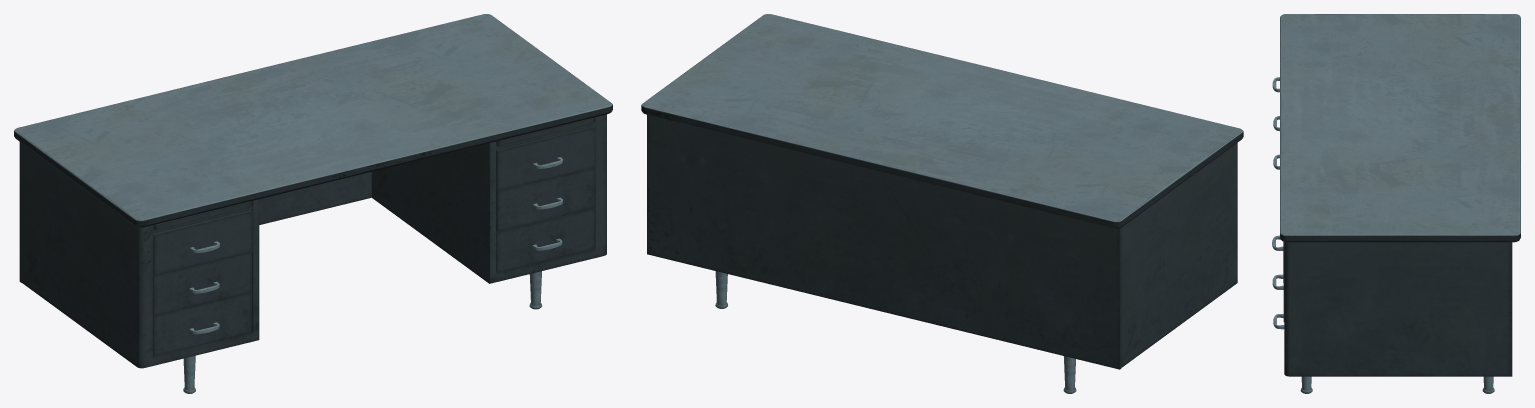
The model's file is alternate.glb.
The picture shows the model from 3 angles, left to right: view 1: azimuth 30°, elevation 25°; view 2: azimuth 150°, elevation 25°; view 3: azimuth 270°, elevation 25°; orthographic projection. The views are drawn at different scales.
Visible parts, largest first — view 1: metal_office_desk, metal_office_desk_drawer_04, metal_office_desk_drawer_01, metal_office_desk_drawer_02, metal_office_desk_drawer_03, metal_office_desk_drawer_06, metal_office_desk_drawer_05, metal_office_desk_tray_01, metal_office_desk_tray_02; view 2: metal_office_desk; view 3: metal_office_desk.
Part boxes in pixels (box(x1,y1,x2,y2)): metal_office_desk: box(14, 14, 612, 393); metal_office_desk_drawer_04: box(153, 210, 252, 275); metal_office_desk_drawer_01: box(496, 126, 595, 191); metal_office_desk_drawer_02: box(496, 167, 595, 231); metal_office_desk_drawer_03: box(496, 208, 594, 272); metal_office_desk_drawer_06: box(153, 292, 251, 356); metal_office_desk_drawer_05: box(153, 252, 251, 315); metal_office_desk_tray_01: box(153, 201, 251, 230); metal_office_desk_tray_02: box(496, 117, 594, 146); metal_office_desk: box(641, 14, 1243, 393); metal_office_desk: box(1280, 14, 1520, 393).
Size of the model in its own units: 2 by 0.7875 by 0.9472.
Materials: 1 (1 with a texture image).
